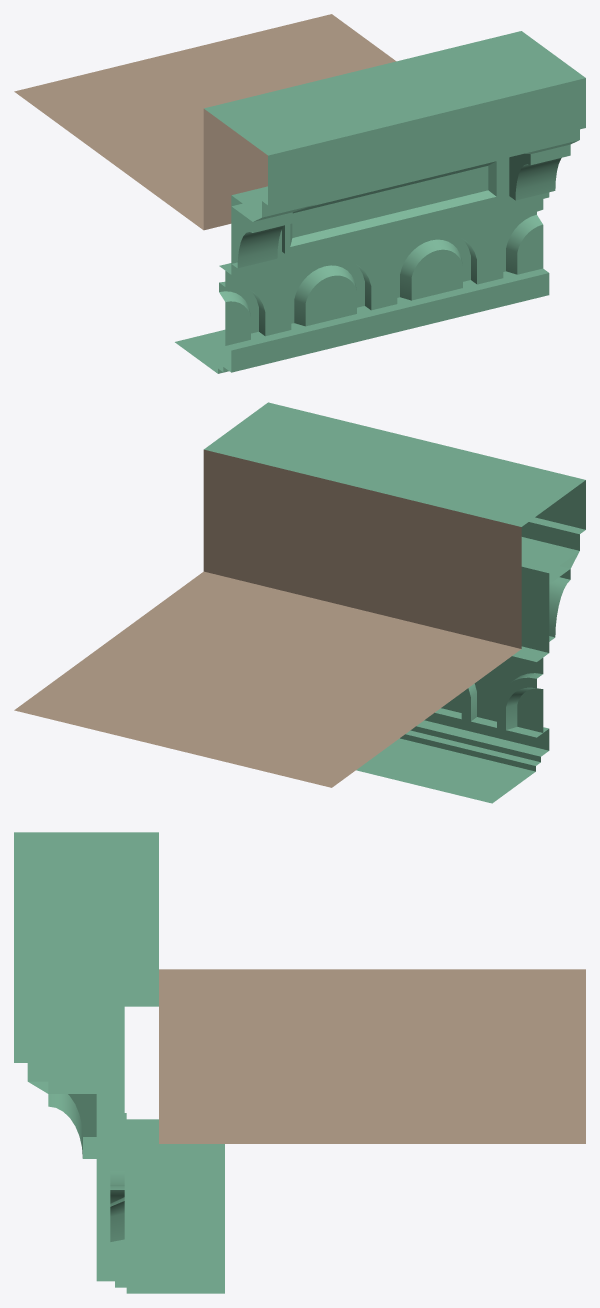
Rendered from object_B1_Roof_side.glb.
3 renders of one model, top to bottom at view 1: azimuth 30°, elevation 25°; view 2: azimuth 150°, elevation 25°; view 3: azimuth 270°, elevation 25°, orthographic. The views are drawn at different scales.
Parts seen in each view (by area): view 1: B1 Roof side; view 2: B1 Roof side; view 3: B1 Roof side.
Boxes of the visible parts, x1,y1,x2,y2 form: B1 Roof side: [14, 14, 585, 373]; B1 Roof side: [14, 402, 585, 803]; B1 Roof side: [14, 832, 585, 1293].
Bounding box in the file's own units: 3 × 2.3 × 4.15.
